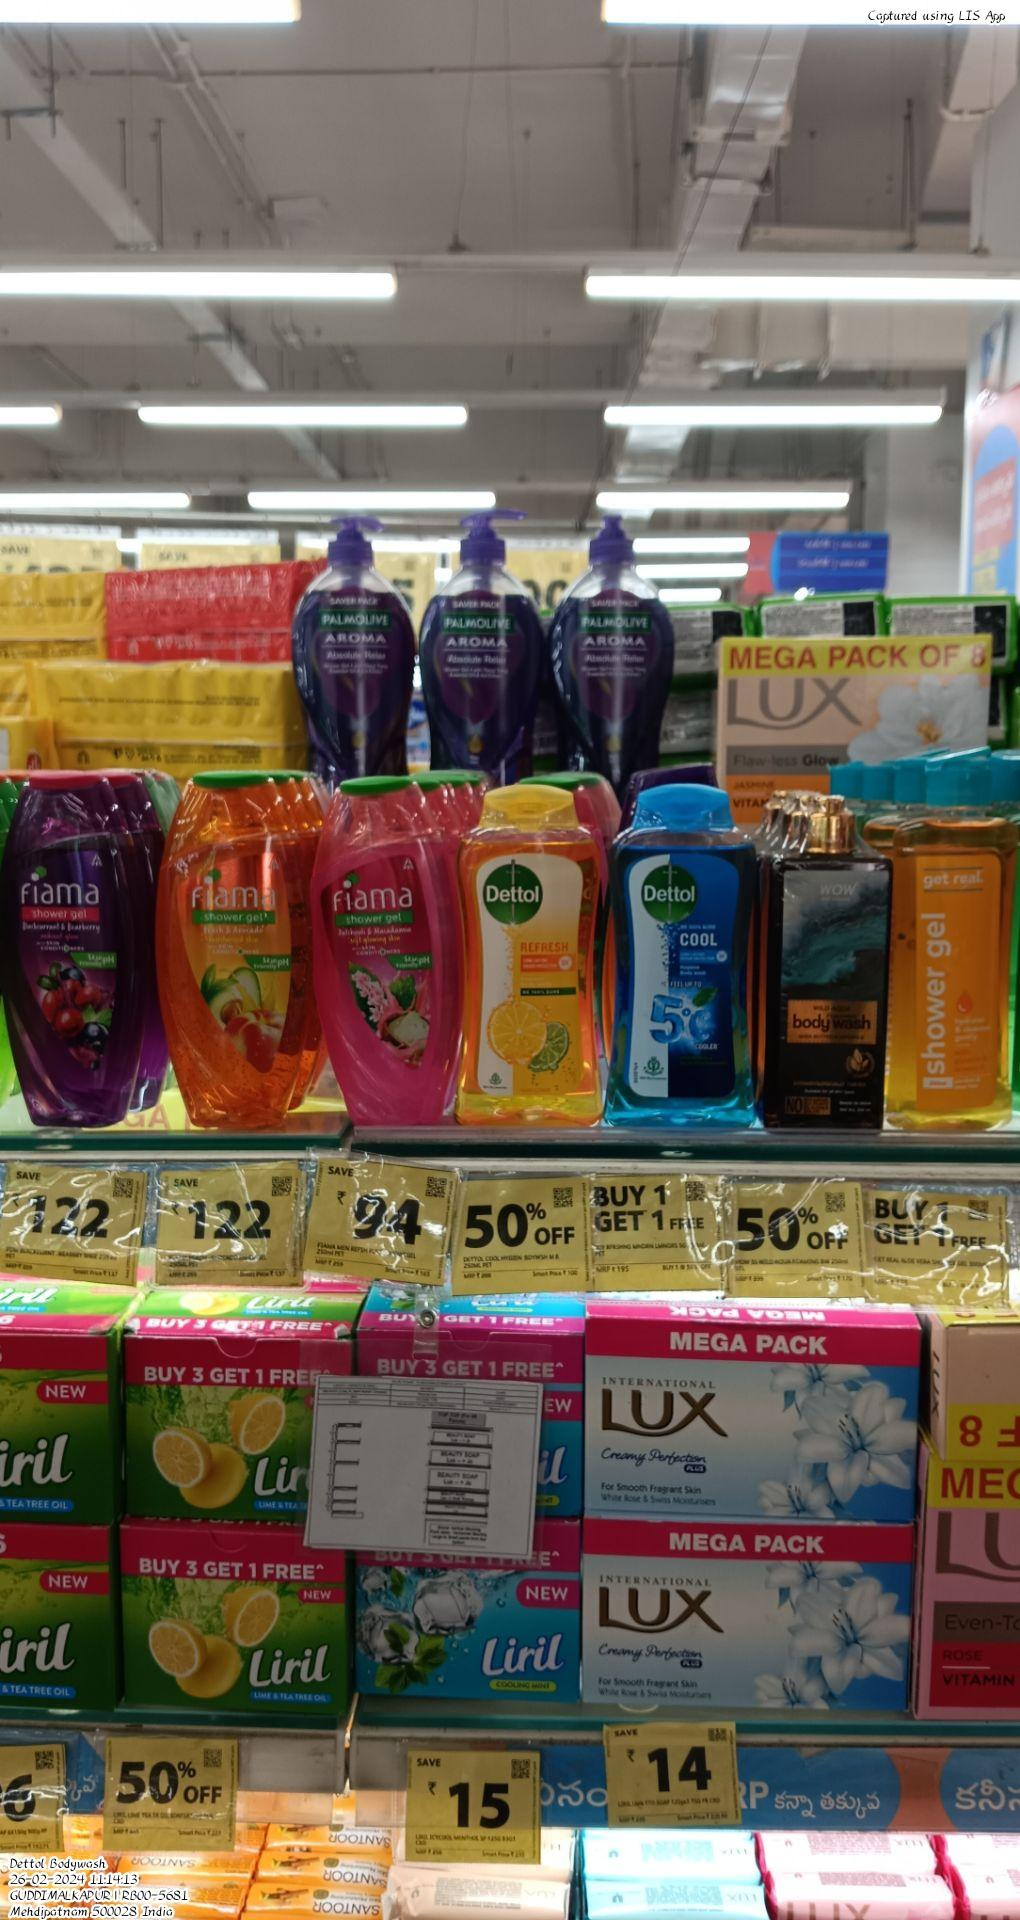Dettol_Bodywash_Cool: (594, 780, 760, 1134)
Dettol_Bodywash_Refresh: (461, 783, 598, 1128)
Fiama_Shower_Gel_Patchouli_and_Macadamia_250ML: (299, 772, 470, 1131)
Fiama_Shower_Gel_Peach_and_Avocado_250ML: (154, 768, 312, 1131)
Get_Real_Shower_Gel_Moisturising_Glycerin_300ML: (889, 749, 1020, 1144)
